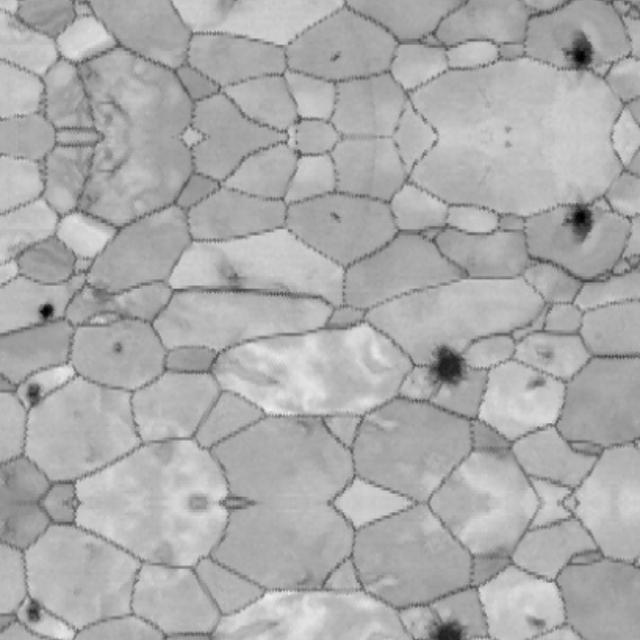good_void: (427, 342, 466, 387), (91, 143, 131, 176), (91, 96, 131, 129), (566, 199, 597, 236), (566, 36, 597, 73), (73, 182, 103, 219), (73, 53, 103, 90), (88, 275, 118, 306), (427, 618, 466, 640), (215, 262, 247, 287), (19, 378, 45, 403), (19, 601, 45, 626), (531, 343, 558, 366), (526, 371, 547, 398), (526, 607, 547, 633), (41, 301, 63, 325), (293, 569, 319, 587), (293, 418, 319, 435), (325, 208, 346, 227), (325, 45, 346, 64), (0, 466, 17, 489), (107, 339, 127, 358), (0, 516, 17, 538), (292, 142, 309, 160), (292, 112, 309, 130), (215, 0, 243, 10), (499, 137, 518, 151), (499, 121, 518, 135)
